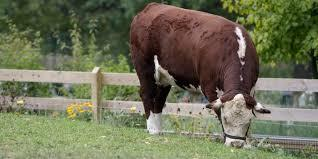cow: (130, 3, 271, 149)
